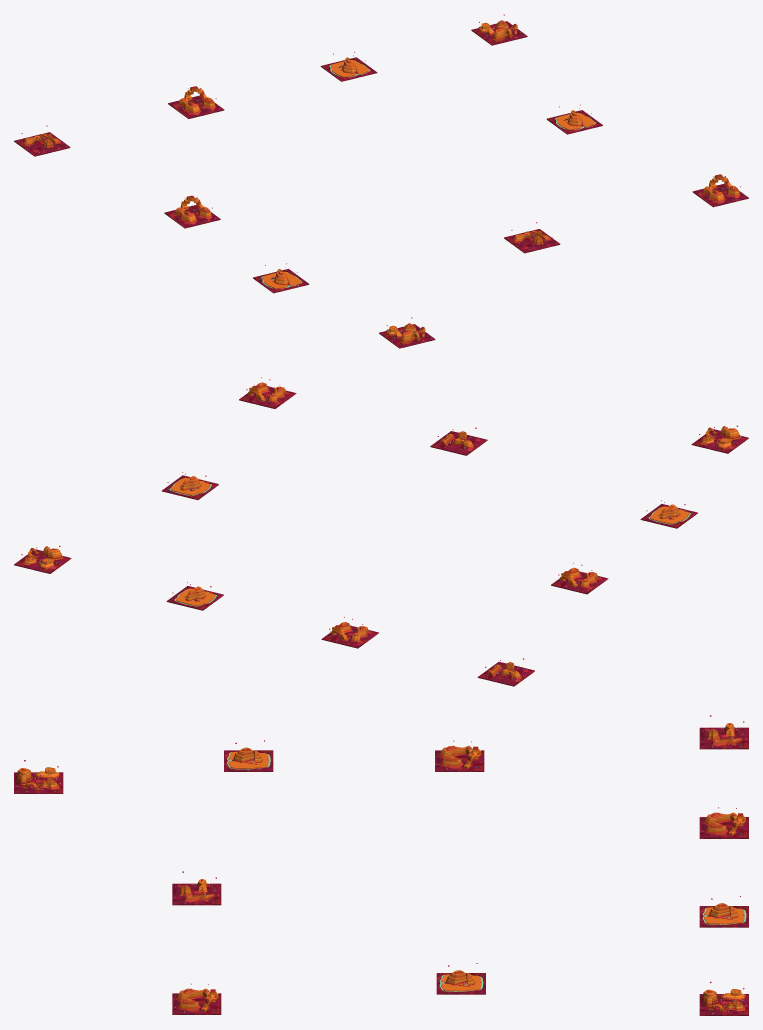
The model's file is Wildcard_Part2_D7.fbx.
3 views of the same model, one above another, from view 1: azimuth 30°, elevation 25°; view 2: azimuth 150°, elevation 25°; view 3: azimuth 270°, elevation 25° (orthographic). The views are drawn at different scales.
Parts seen in each view (by area): view 1: Cube.092, Cube.144, Cube.080, Cube.095, Cube.117, Cube.094, Cube.152, Cube.097, Cube.090, Cube.133; view 2: Cube.117, Cube.095, Cube.080, Cube.144, Cube.092, Cube.133, Cube.090, Cube.094, Cube.152, Cube.097; view 3: Cube.092, Cube.144, Cube.080, Cube.095, Cube.117, Cube.090, Cube.133, Cube.094, Cube.152, Cube.097.
Boxes of the visible parts, bbox=[...] form: Cube.092: bbox=[168, 86, 224, 118]; Cube.144: bbox=[692, 174, 748, 207]; Cube.080: bbox=[164, 195, 220, 228]; Cube.095: bbox=[471, 14, 527, 45]; Cube.117: bbox=[379, 317, 435, 348]; Cube.094: bbox=[320, 51, 377, 81]; Cube.152: bbox=[546, 104, 602, 134]; Cube.097: bbox=[253, 263, 309, 293]; Cube.090: bbox=[14, 125, 70, 156]; Cube.133: bbox=[504, 222, 560, 253]; Cube.117: bbox=[691, 425, 748, 453]; Cube.095: bbox=[14, 545, 71, 573]; Cube.080: bbox=[551, 562, 608, 594]; Cube.144: bbox=[239, 377, 296, 408]; Cube.092: bbox=[321, 617, 378, 648]; Cube.133: bbox=[430, 427, 487, 455]; Cube.090: bbox=[477, 658, 534, 686]; Cube.094: bbox=[166, 582, 223, 610]; Cube.152: bbox=[162, 472, 218, 499]; Cube.097: bbox=[640, 500, 697, 528]; Cube.092: bbox=[699, 807, 748, 838]; Cube.144: bbox=[172, 983, 221, 1014]; Cube.080: bbox=[435, 740, 484, 771]; Cube.095: bbox=[699, 981, 748, 1015]; Cube.117: bbox=[14, 760, 63, 793]; Cube.090: bbox=[699, 715, 748, 749]; Cube.133: bbox=[172, 871, 221, 905]; Cube.094: bbox=[699, 896, 748, 927]; Cube.152: bbox=[436, 963, 485, 994]; Cube.097: bbox=[224, 740, 273, 771].
Size of the model in its own units: 55079 by 1759 by 59705.
4 materials, 3 textured.
